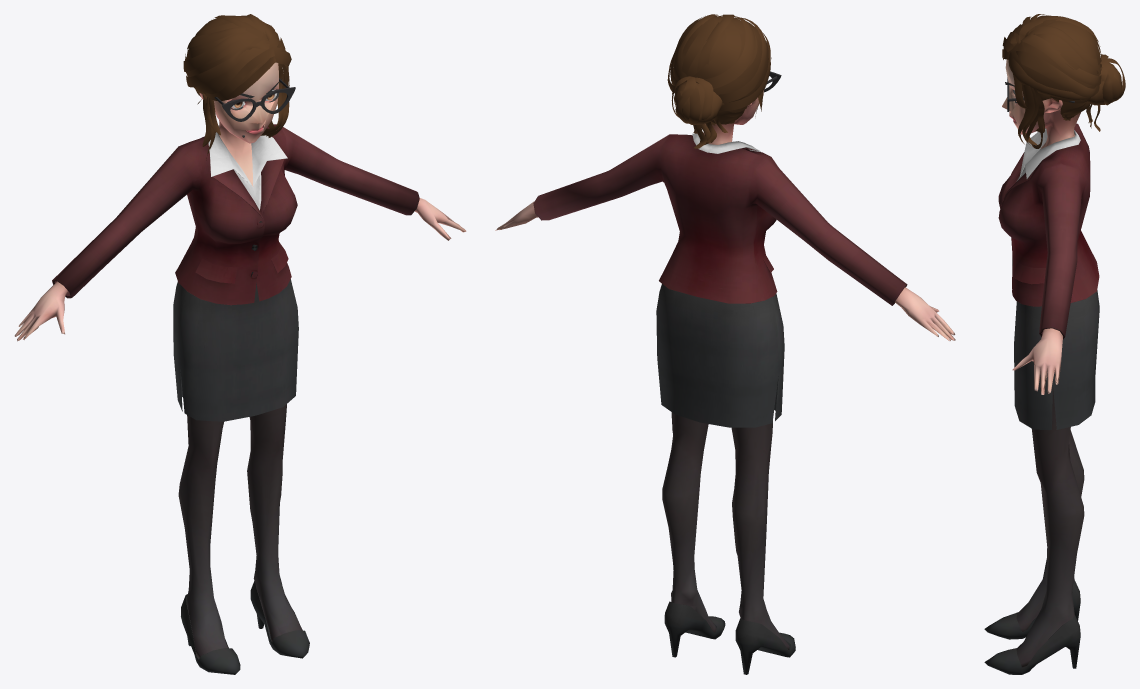
Rendered from Teacher.glb.
3 renders of one model, left to right at view 1: azimuth 30°, elevation 25°; view 2: azimuth 150°, elevation 25°; view 3: azimuth 270°, elevation 25°, orthographic.
Visible parts, largest first — view 1: Obj3d66-13106882-2-196, Obj3d66-13106882-9-872, Obj3d66-13106882-3-755, Obj3d66-13106882-4-184; view 2: Obj3d66-13106882-2-196, Obj3d66-13106882-9-872, Obj3d66-13106882-3-755; view 3: Obj3d66-13106882-2-196, Obj3d66-13106882-9-872, Obj3d66-13106882-3-755.
Part boxes in pixels (x1,y1,x2,y2): Obj3d66-13106882-2-196: (52, 124, 419, 674); Obj3d66-13106882-9-872: (14, 62, 466, 658); Obj3d66-13106882-3-755: (183, 14, 291, 160); Obj3d66-13106882-4-184: (214, 78, 295, 121); Obj3d66-13106882-2-196: (533, 133, 907, 674); Obj3d66-13106882-9-872: (495, 90, 955, 649); Obj3d66-13106882-3-755: (667, 14, 771, 148); Obj3d66-13106882-2-196: (984, 123, 1099, 674); Obj3d66-13106882-9-872: (1002, 59, 1084, 667); Obj3d66-13106882-3-755: (1002, 14, 1125, 148).
Bounding box in the file's own units: 0.7192 × 0.9602 × 0.1946.
7 materials, 3 textured.
